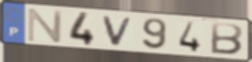4: (67, 10, 97, 47), (177, 19, 205, 54)
9: (140, 17, 168, 52)
B: (209, 21, 245, 57)
N: (26, 7, 66, 43)
V: (101, 15, 136, 48)
